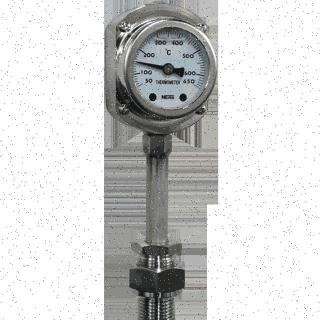gauge: (110, 6, 218, 130), (134, 76, 152, 92), (186, 77, 202, 93), (162, 64, 172, 74), (132, 59, 140, 65)
